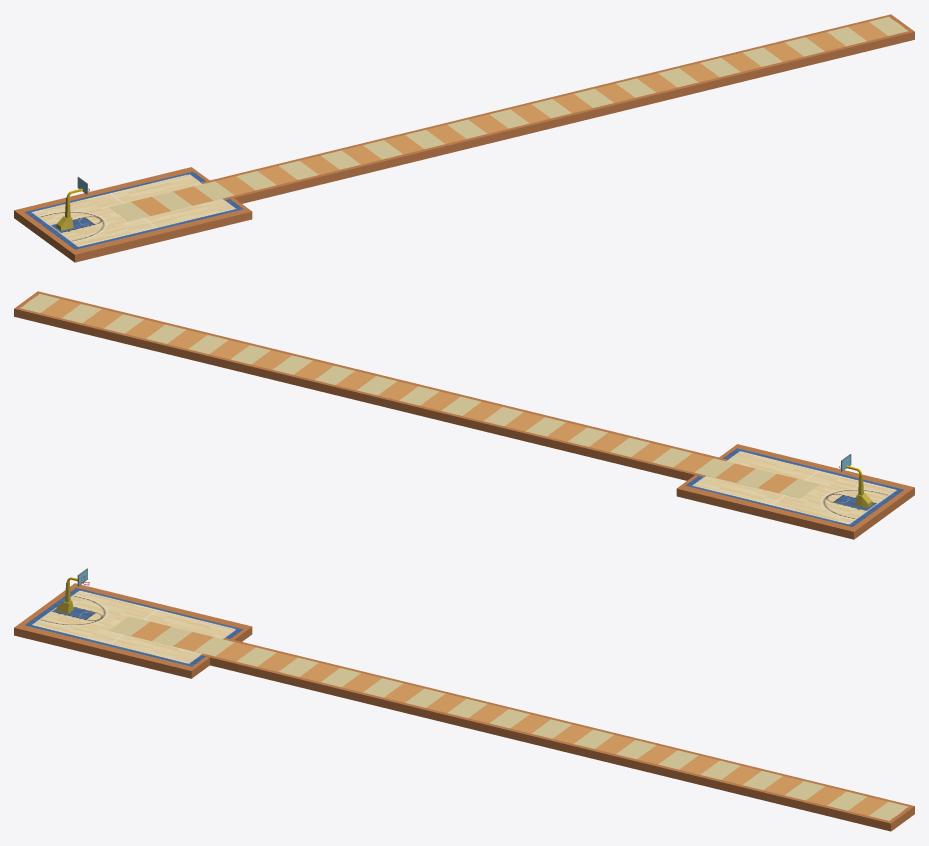
File: saha-1aa.fbx
The picture shows the model from 3 angles, top to bottom: view 1: azimuth 30°, elevation 25°; view 2: azimuth 150°, elevation 25°; view 3: azimuth 330°, elevation 25°; orthographic projection.
Visible parts, largest first — view 1: YOL, Zemin.001, Plane, Zemin; view 2: YOL, Zemin.001, Plane, Zemin; view 3: YOL, Zemin.001, Plane, Zemin.
Boxes of the visible parts, box(x1,y1,x2,y2) form: YOL: box(109, 16, 908, 221); Zemin.001: box(201, 14, 914, 203); Plane: box(24, 171, 243, 249); Zemin: box(14, 167, 252, 262); YOL: box(20, 294, 819, 498); Zemin.001: box(14, 291, 727, 480); Plane: box(685, 448, 904, 526); Zemin: box(676, 444, 914, 539); YOL: box(109, 616, 908, 820); Zemin.001: box(201, 637, 914, 831); Plane: box(24, 588, 243, 666); Zemin: box(14, 583, 252, 678).
Bounding box in the file's own units: 5052 × 285 × 620.
Materials: 11 (1 with a texture image).
